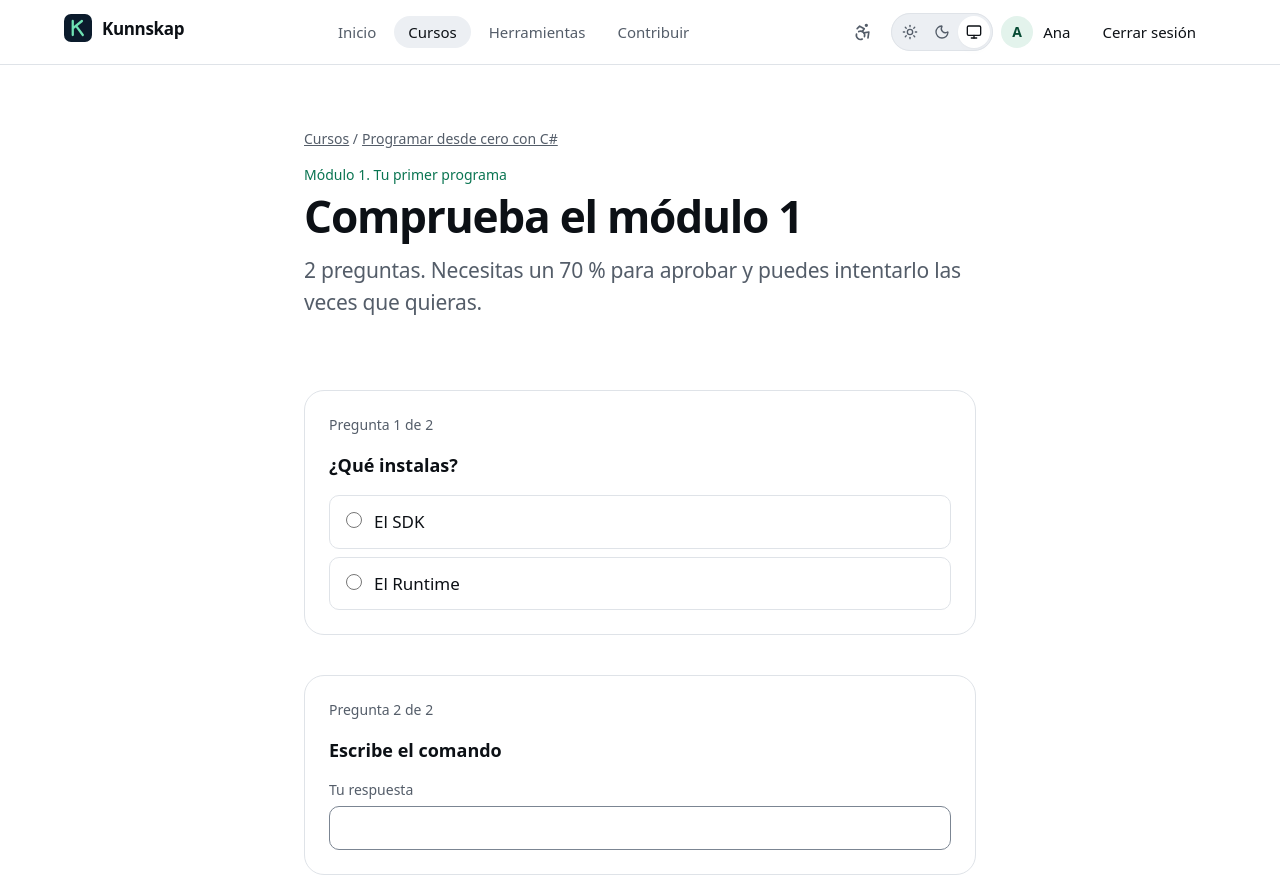
Test: cuestionario › al aprobar marca las respuestas correctas
Click the radio button labelled "El SDK".
click(354, 520)  # box [346,512,362,528]
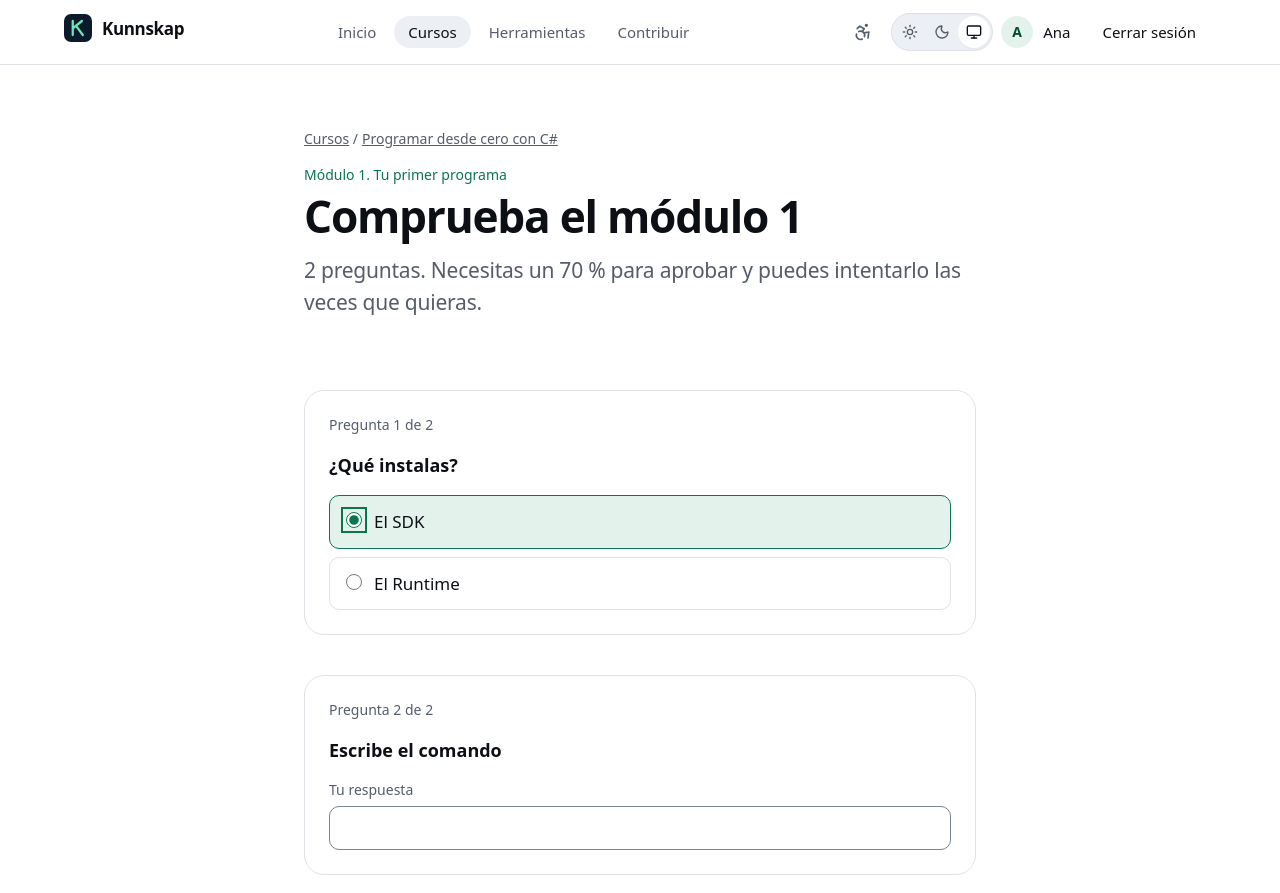
Type "dotnet hola" into the field labelled "Tu respuesta".
click(640, 828); type("dotnet hola")  # box [329,806,951,850]
(page scrolled)
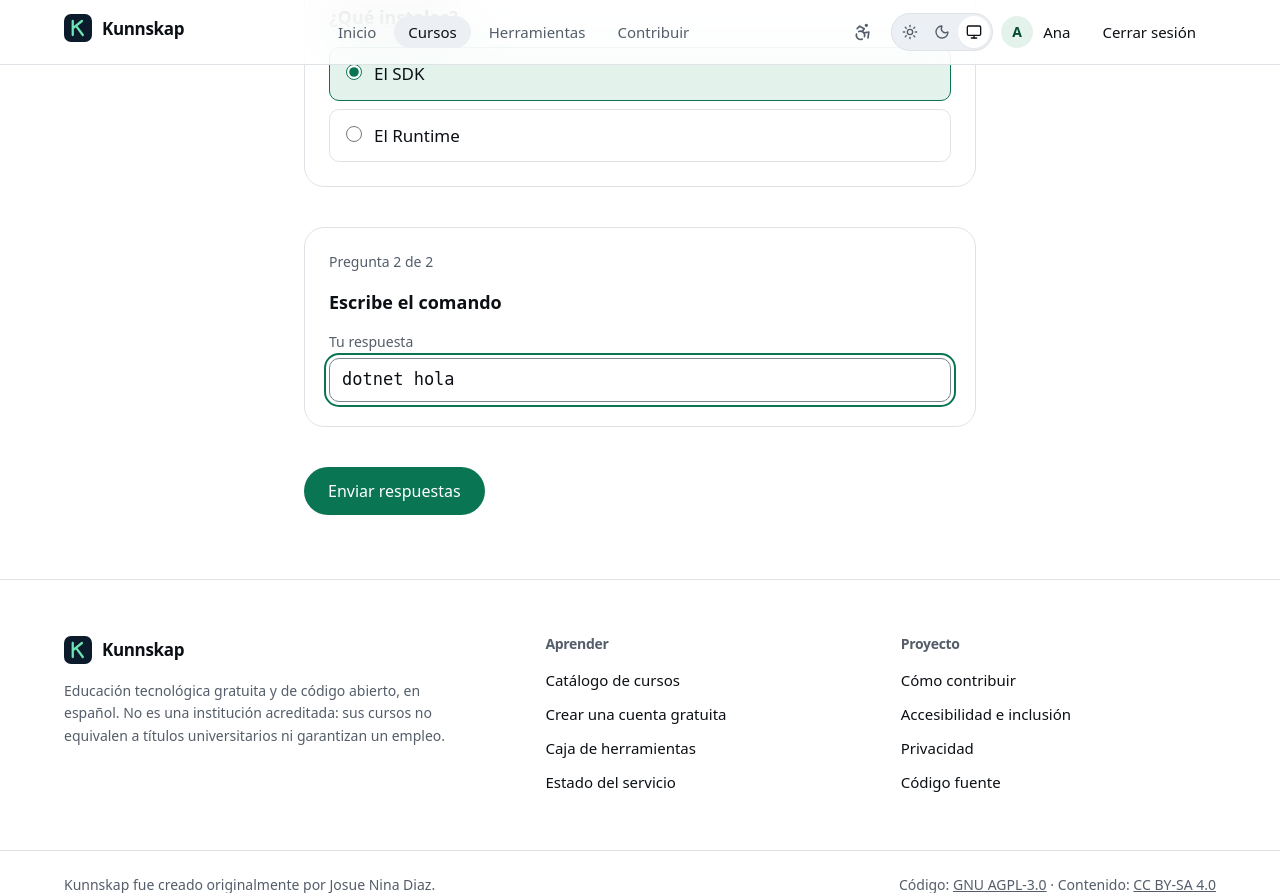
Click the button "Enviar respuestas".
click(394, 491)  # box [304,467,485,515]
(page scrolled)
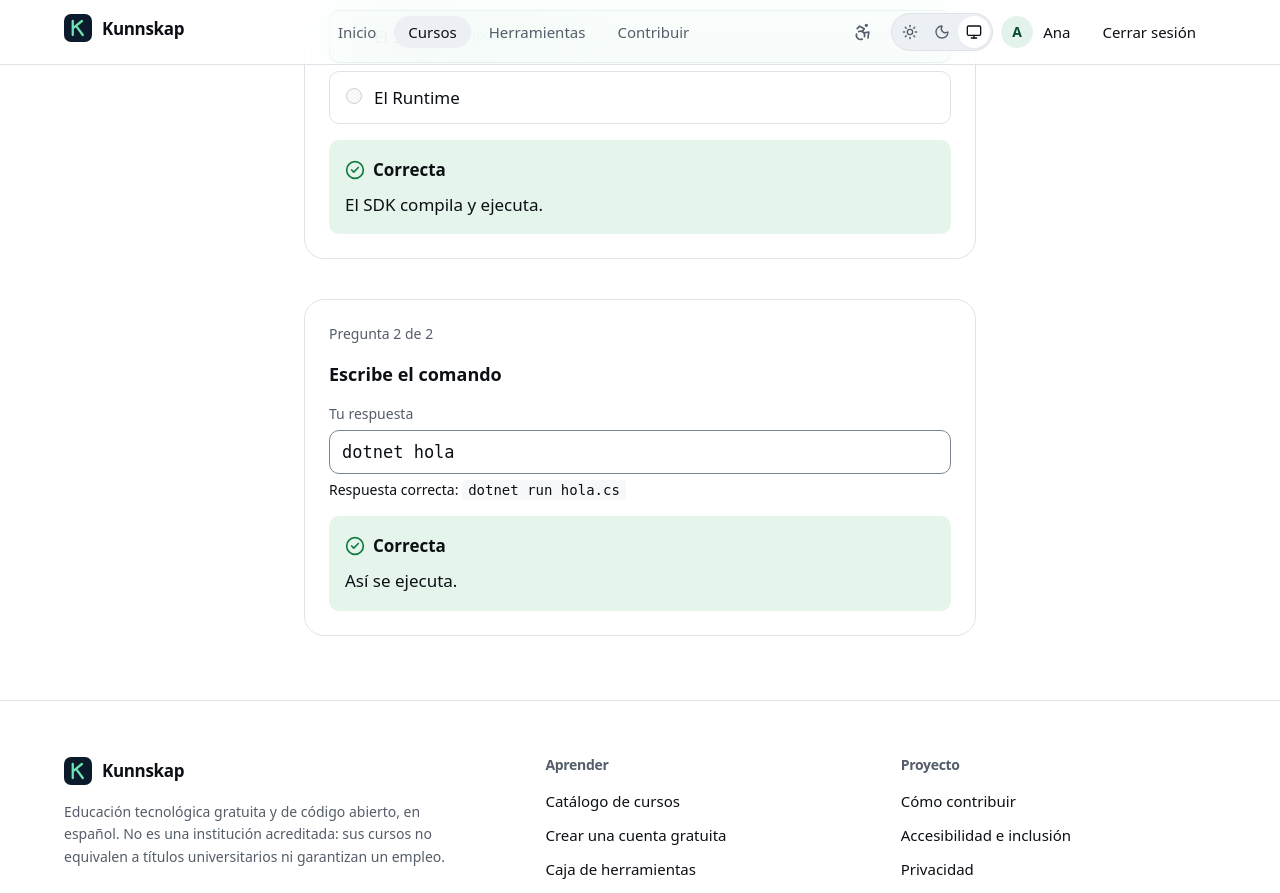
Check: the text "Respuesta correcta" is shown, box [432,24,578,44]
Check: the text "dotnet run hola.cs" is shown, box [462,480,626,500]
